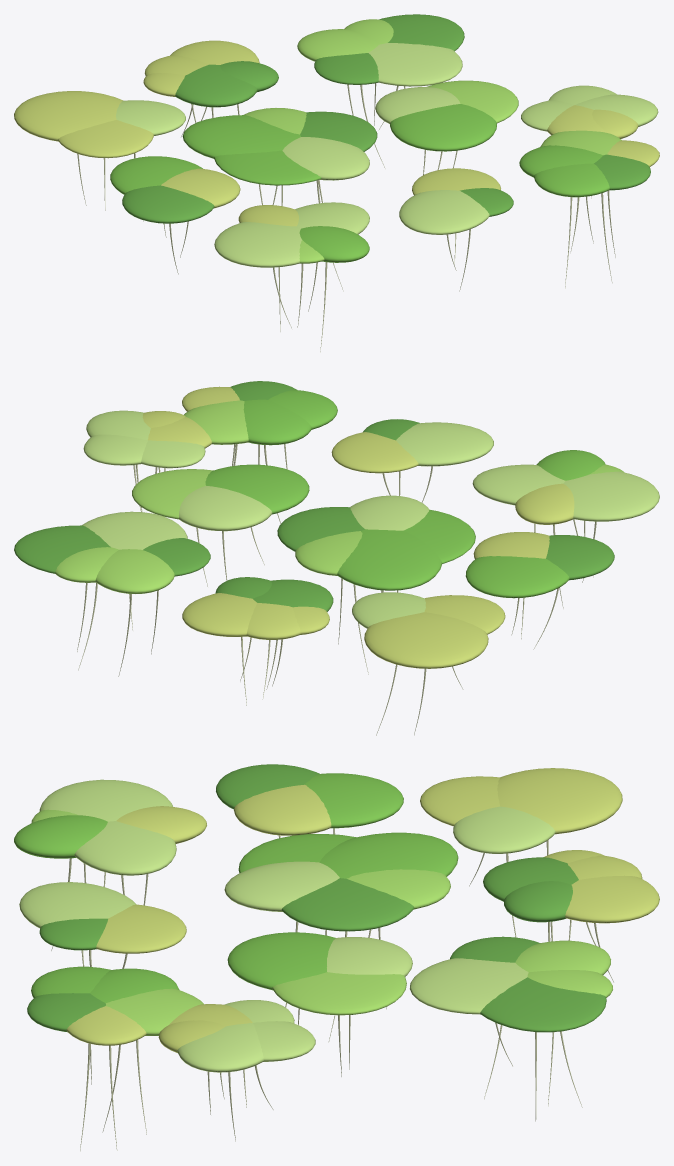
The model's file is _duckweed_ar.glb.
The picture shows the model from 3 angles, top to bottom: view 1: azimuth 30°, elevation 25°; view 2: azimuth 150°, elevation 25°; view 3: azimuth 270°, elevation 25°; orthographic projection. The views are drawn at different scales.
Parts seen in each view (by area): view 1: 浮萍6_葉狀體2, 浮萍1_葉狀體1, 浮萍5_葉狀體4, 浮萍8_葉狀體1, 浮萍3_葉狀體1, 浮萍9_葉狀體2, 浮萍5_葉狀體1, 浮萍4_葉狀體2, 浮萍5_葉狀體5, 浮萍1_葉狀體2, 浮萍2_葉狀體2, 浮萍3_葉狀體2 (+29 smaller); view 2: 浮萍1_葉狀體1, 浮萍5_葉狀體4, 浮萍8_葉狀體1, 浮萍4_葉狀體1, 浮萍9_葉狀體2, 浮萍6_葉狀體2, 浮萍6_葉狀體1, 浮萍3_葉狀體1, 浮萍3_葉狀體2, 浮萍3_葉狀體4, 浮萍9_葉狀體1, 浮萍2_葉狀體4 (+29 smaller); view 3: 浮萍1_葉狀體1, 浮萍3_葉狀體2, 浮萍3_葉狀體1, 浮萍5_葉狀體4, 浮萍5_葉狀體2, 浮萍6_葉狀體2, 浮萍6_葉狀體3, 浮萍8_葉狀體4, 浮萍5_葉狀體1, 浮萍4_葉狀體1, 浮萍4_葉狀體3, 浮萍2_葉狀體4 (+28 smaller).
Part boxes in pixels (bbox=[...]): 浮萍6_葉狀體2: bbox=[390, 104, 496, 151]; 浮萍1_葉狀體1: bbox=[14, 91, 123, 141]; 浮萍5_葉狀體4: bbox=[182, 115, 300, 158]; 浮萍8_葉狀體1: bbox=[214, 222, 301, 267]; 浮萍3_葉狀體1: bbox=[368, 43, 462, 86]; 浮萍9_葉狀體2: bbox=[399, 190, 489, 234]; 浮萍5_葉狀體1: bbox=[282, 137, 369, 180]; 浮萍4_葉狀體2: bbox=[122, 185, 214, 223]; 浮萍5_葉狀體5: bbox=[214, 150, 321, 185]; 浮萍1_葉狀體2: bbox=[58, 120, 153, 158]; 浮萍2_葉狀體2: bbox=[175, 64, 257, 107]; 浮萍3_葉狀體2: bbox=[379, 14, 464, 51]; 浮萍1_葉狀體1: bbox=[364, 612, 488, 668]; 浮萍5_葉狀體4: bbox=[337, 529, 442, 590]; 浮萍8_葉狀體1: bbox=[563, 471, 659, 521]; 浮萍4_葉狀體1: bbox=[465, 556, 569, 598]; 浮萍9_葉狀體2: bbox=[396, 422, 493, 466]; 浮萍6_葉狀體2: bbox=[205, 464, 309, 514]; 浮萍6_葉狀體1: bbox=[179, 486, 272, 531]; 浮萍3_葉狀體1: bbox=[81, 511, 187, 549]; 浮萍3_葉狀體2: bbox=[14, 525, 110, 573]; 浮萍3_葉狀體4: bbox=[95, 549, 174, 593]; 浮萍9_葉狀體1: bbox=[331, 432, 418, 473]; 浮萍2_葉狀體4: bbox=[182, 593, 256, 636]; 浮萍1_葉狀體1: bbox=[497, 768, 622, 834]; 浮萍3_葉狀體2: bbox=[480, 977, 606, 1032]; 浮萍3_葉狀體1: bbox=[409, 958, 528, 1014]; 浮萍5_葉狀體4: bbox=[319, 832, 458, 878]; 浮萍5_葉狀體2: bbox=[281, 878, 414, 931]; 浮萍6_葉狀體2: bbox=[227, 932, 335, 990]; 浮萍6_葉狀體3: bbox=[272, 972, 406, 1015]; 浮萍8_葉狀體4: bbox=[74, 821, 176, 875]; 浮萍5_葉狀體1: bbox=[224, 861, 339, 911]; 浮萍4_葉狀體1: bbox=[305, 773, 403, 828]; 浮萍4_葉狀體3: bbox=[234, 784, 331, 835]; 浮萍2_葉狀體4: bbox=[565, 875, 659, 923].
Size of the model in its own units: 1.63 by 0.4343 by 1.46.
